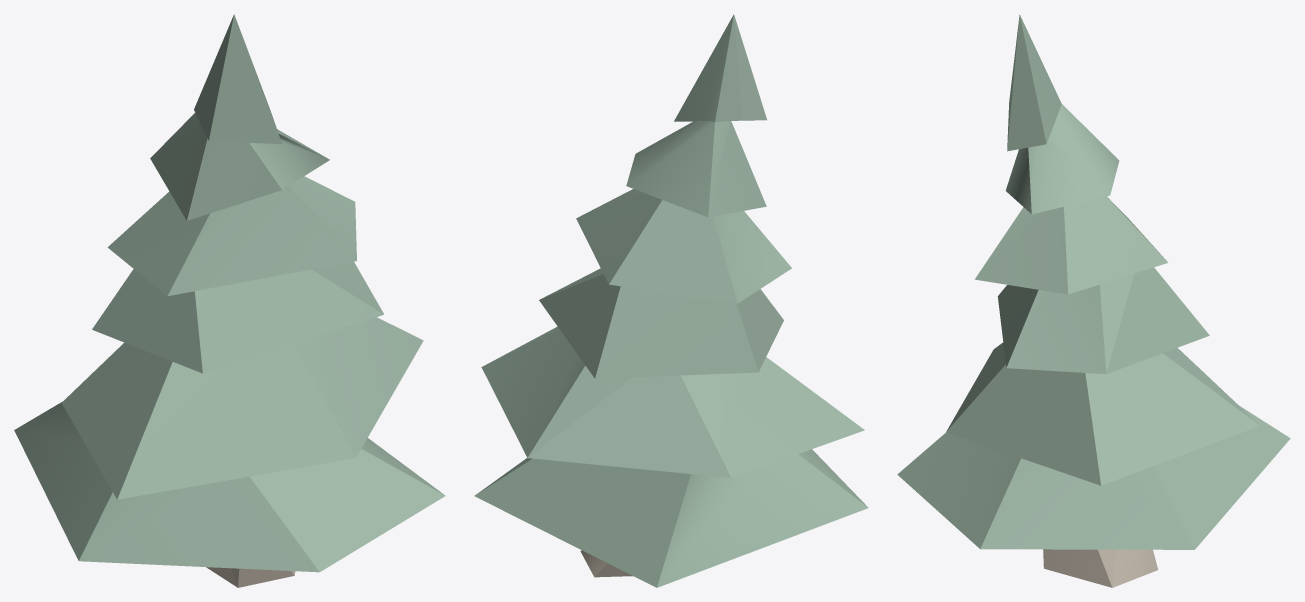
File: pino5.fbx
The picture shows the model from 3 angles, left to right: view 1: azimuth 30°, elevation 25°; view 2: azimuth 150°, elevation 25°; view 3: azimuth 270°, elevation 25°; orthographic projection. The views are drawn at different scales.
Parts seen in each view (by area): view 1: Tree_Pine_04; view 2: Tree_Pine_04; view 3: Tree_Pine_04.
Boxes of the visible parts, x1,y1,x2,y2 form: Tree_Pine_04: (14, 14, 445, 587); Tree_Pine_04: (474, 14, 868, 587); Tree_Pine_04: (897, 14, 1290, 587).
Size of the model in its own units: 268 by 388 by 265.
